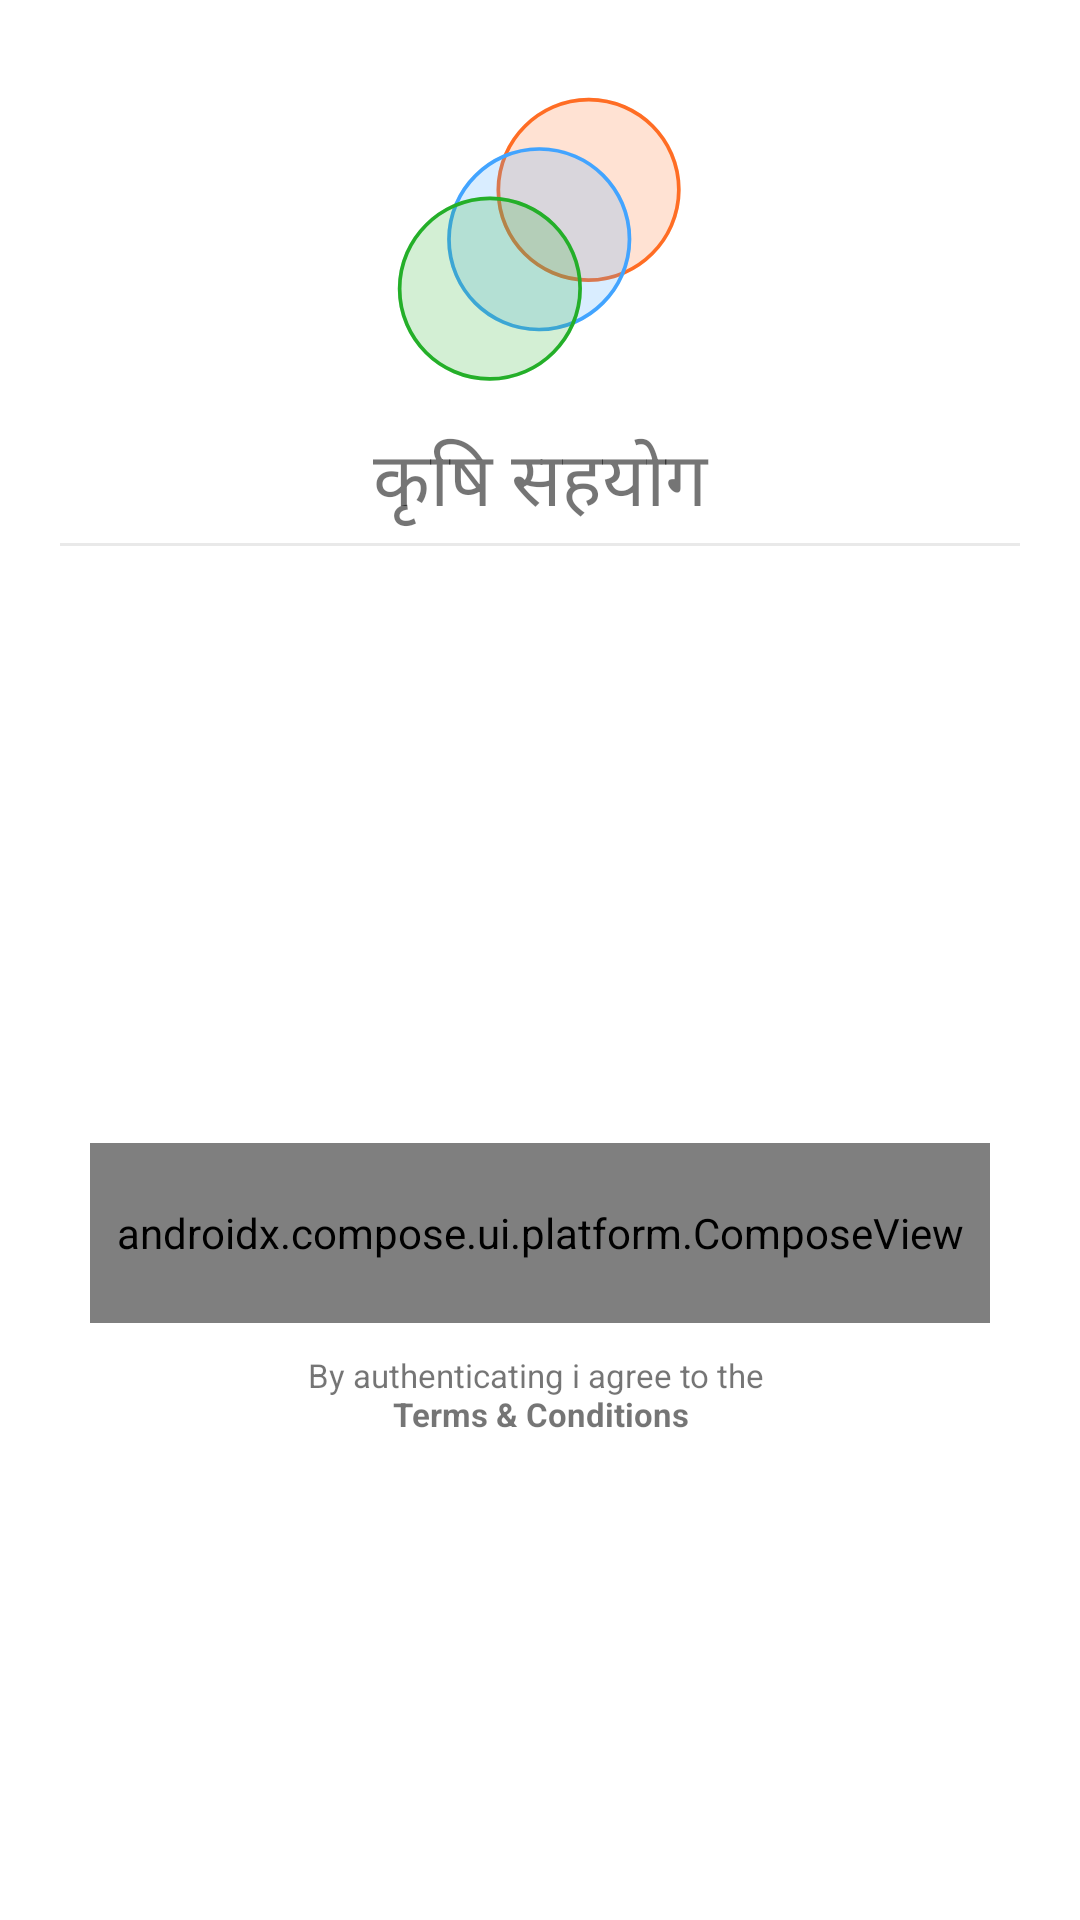

Where icons sit on this 1080 × 1920 app screen, as (x1, y1, x2, y2):
app: (397, 97, 681, 381)
